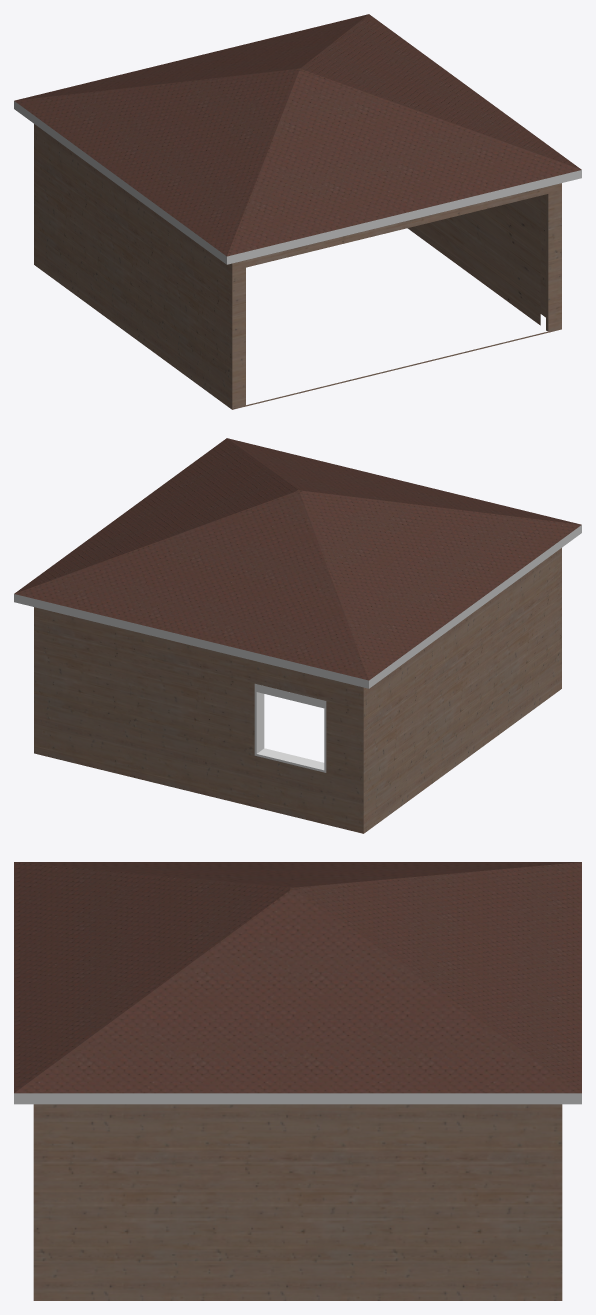
File: Garage_Window.fbx
3 renders of one model, top to bottom at view 1: azimuth 30°, elevation 25°; view 2: azimuth 150°, elevation 25°; view 3: azimuth 270°, elevation 25°, orthographic. The views are drawn at different scales.
Visible parts, largest first — view 1: Exterior_Window; view 2: Exterior_Window, Window frame outer, Window reveal; view 3: Exterior_Window.
Part boxes in pixels (left/top/right/bottom): Exterior_Window: left=14, top=14, right=581, bottom=409; Exterior_Window: left=14, top=438, right=581, bottom=833; Window frame outer: left=254, top=683, right=326, bottom=772; Window reveal: left=259, top=693, right=324, bottom=767; Exterior_Window: left=14, top=862, right=581, bottom=1300.
Bounding box in the file's own units: 6.51 × 4.01 × 6.76.
